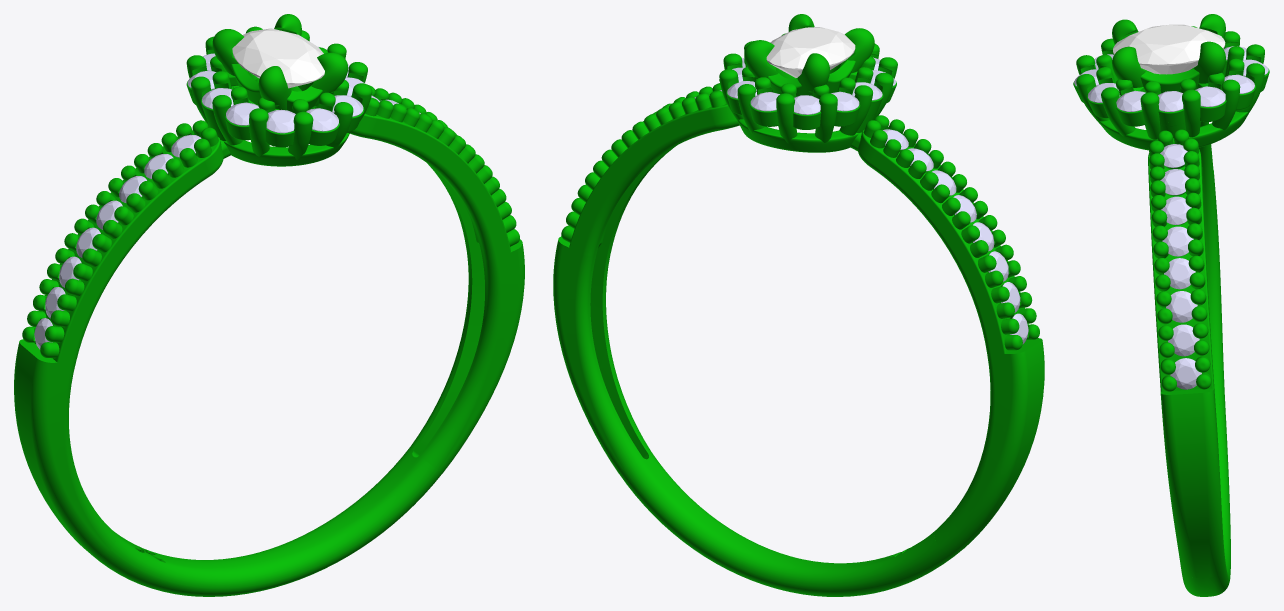
3 renders of one model, left to right at view 1: azimuth 30°, elevation 25°; view 2: azimuth 150°, elevation 25°; view 3: azimuth 270°, elevation 25°, orthographic. The views are drawn at different scales.
Visible parts, largest first — view 1: RNG-2509089.3dm; view 2: RNG-2509089.3dm; view 3: RNG-2509089.3dm.
Boxes of the visible parts, x1=… form: RNG-2509089.3dm: x1=14, y1=14, x2=524, y2=596; RNG-2509089.3dm: x1=553, y1=14, x2=1044, y2=596; RNG-2509089.3dm: x1=1073, y1=14, x2=1269, y2=596.
Bounding box in the file's own units: 2.62 × 2.87 × 0.9402.
